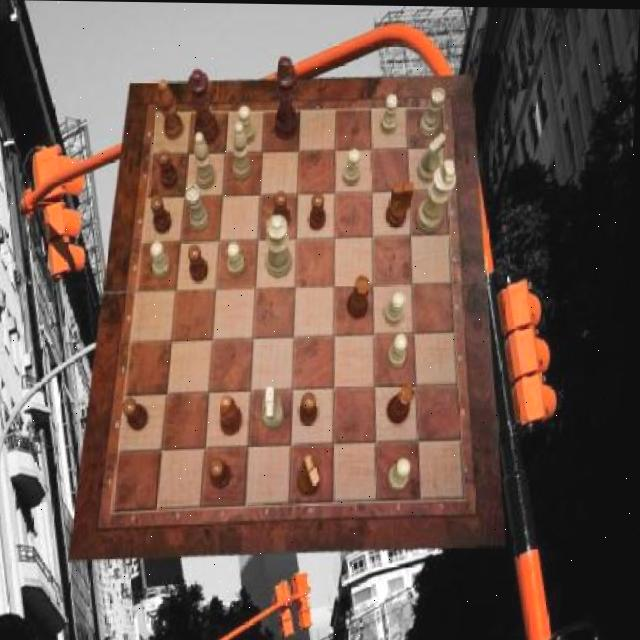bishop: (157, 80, 187, 141), (222, 395, 248, 436)
black-bishop: (275, 55, 303, 140)
black-king: (388, 180, 417, 226), (303, 453, 328, 495)
black-knight: (127, 397, 154, 431), (152, 196, 176, 234), (158, 150, 181, 188), (190, 244, 212, 282), (310, 191, 329, 229), (274, 190, 293, 227), (214, 458, 236, 489), (303, 391, 322, 425)
black-pawn: (187, 67, 223, 145)
black-queen: (392, 383, 421, 424), (350, 275, 375, 319)
black-rook: (195, 132, 221, 189), (231, 121, 255, 180)
white-bishop: (418, 159, 459, 233)
white-king: (419, 131, 448, 182), (266, 385, 290, 427)
white-knight: (153, 240, 175, 277), (393, 457, 417, 490), (387, 291, 409, 325), (343, 147, 362, 185), (239, 105, 258, 142), (392, 332, 412, 367), (229, 241, 249, 276), (383, 92, 400, 132)
white-pawn: (267, 214, 297, 278)
white-queen: (421, 86, 447, 138), (186, 184, 212, 230)
